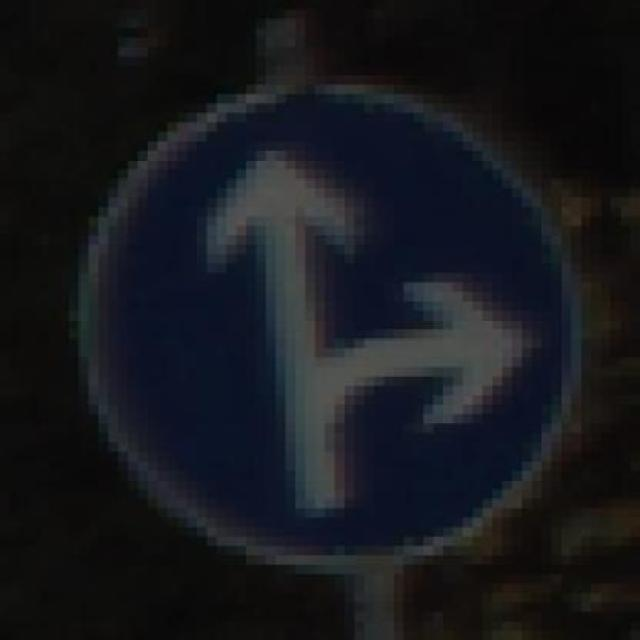Go Straight or Turn Right: (69, 84, 591, 574)
